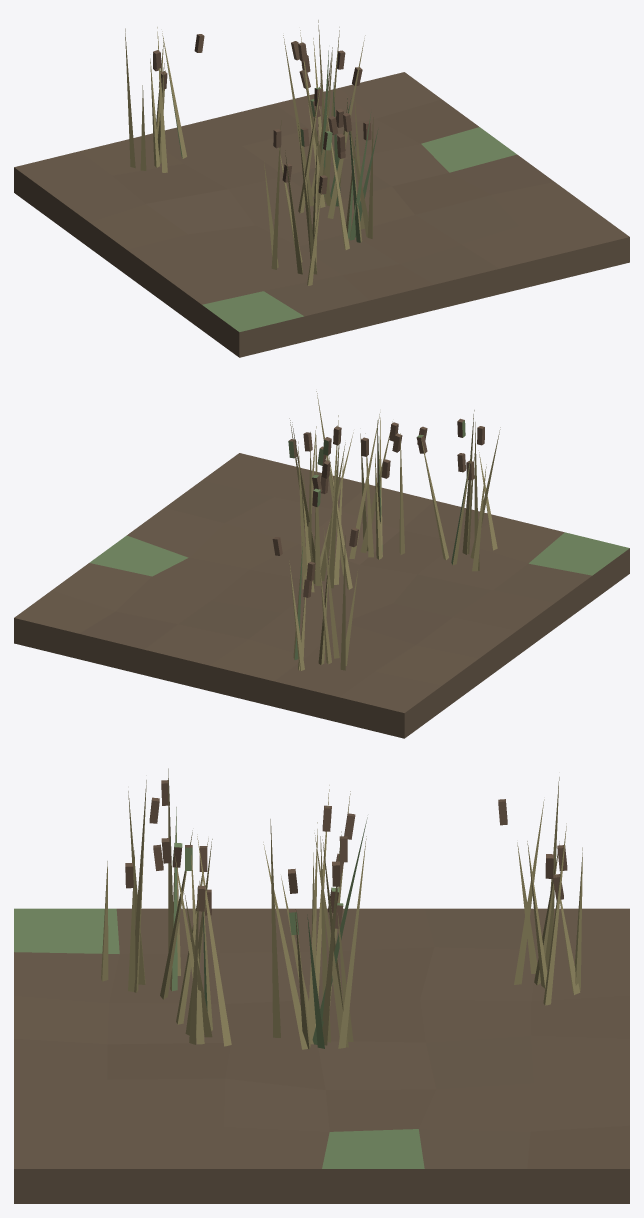
File: ground_reeds.glb
3 renders of one model, top to bottom at view 1: azimuth 30°, elevation 25°; view 2: azimuth 150°, elevation 25°; view 3: azimuth 270°, elevation 25°, orthographic. The views are drawn at different scales.
Visible parts, largest first — view 1: ground_reeds; view 2: ground_reeds; view 3: ground_reeds.
Boxes of the visible parts, <box> form: ground_reeds: <box>14,20,629,357</box>; ground_reeds: <box>14,391,629,738</box>; ground_reeds: <box>14,768,629,1203</box>.
Bounding box in the file's own units: 4 × 1.99 × 4.
